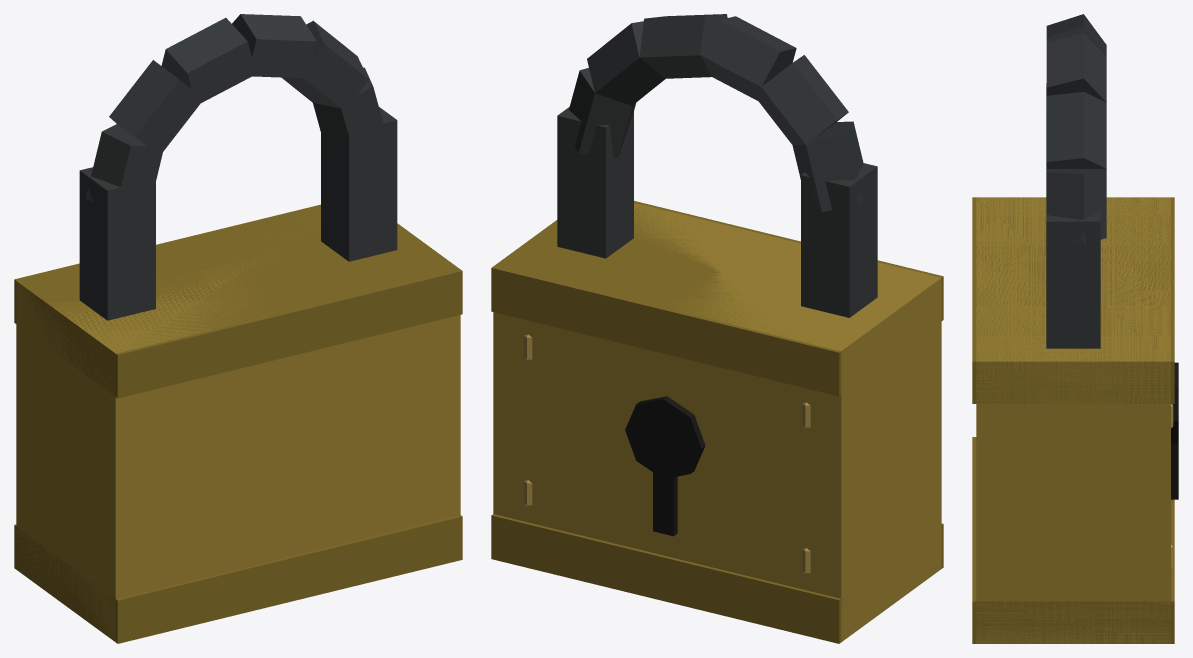
File: tool_shed_lock.glb
3 views of the same model, side by side, from view 1: azimuth 30°, elevation 25°; view 2: azimuth 150°, elevation 25°; view 3: azimuth 270°, elevation 25° (orthographic). The views are drawn at different scales.
Visible parts, largest first — view 1: Lock; view 2: Lock; view 3: Lock.
Part boxes in pixels (box(x1,y1,x2,y2)): Lock: box(14, 14, 462, 643); Lock: box(491, 14, 943, 643); Lock: box(972, 14, 1178, 643).
Bounding box in the file's own units: 0.1 × 0.1508 × 0.053.
